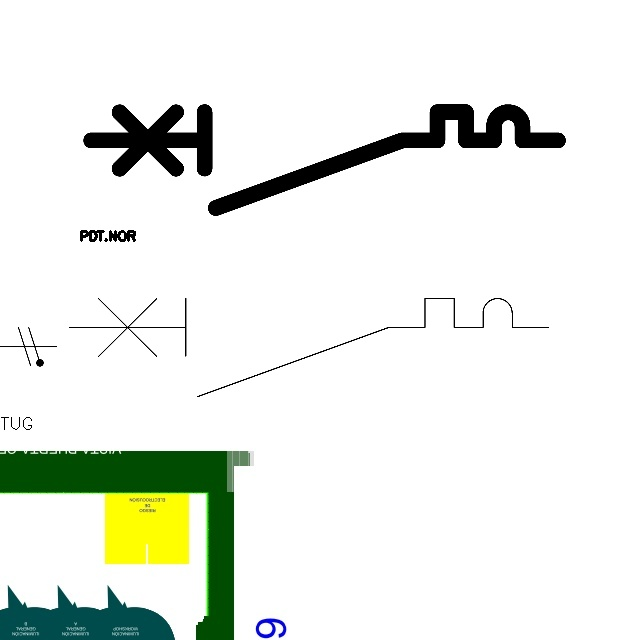interruptor_termomagnetico: (56, 286, 560, 409), (79, 100, 570, 220)
